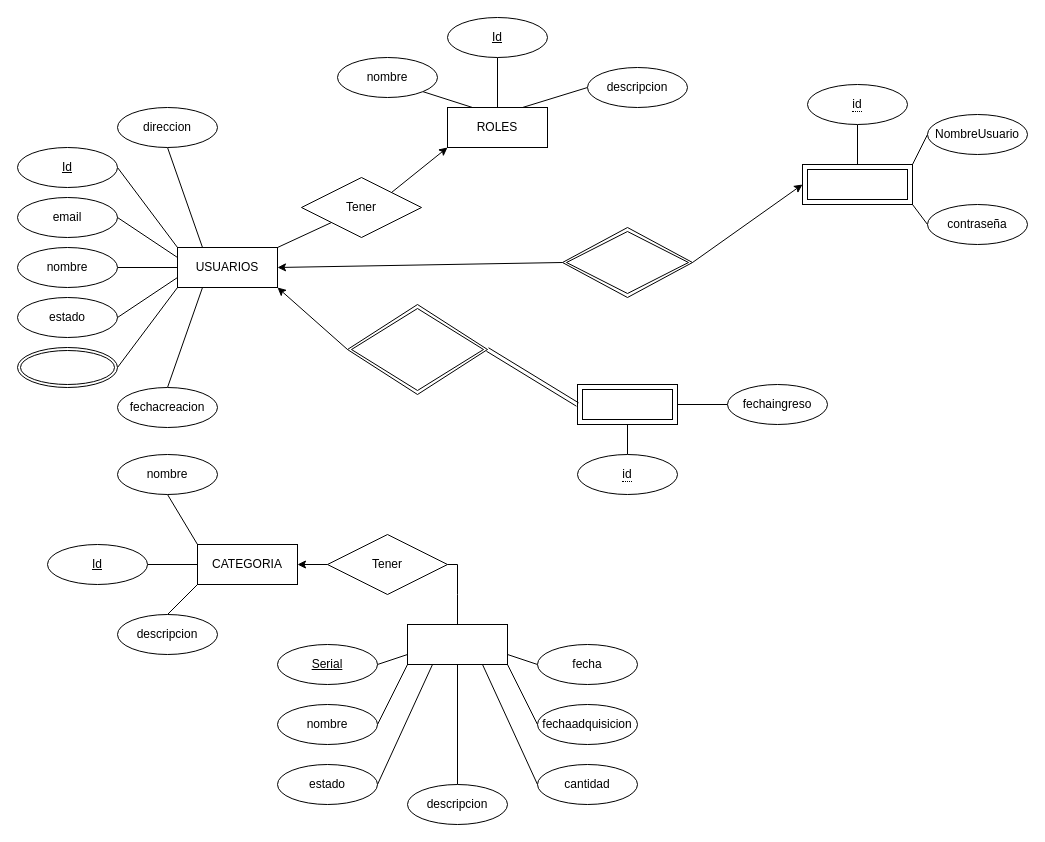
This 1045x842 diagram has some shape labels left out. Each missing label, with the centre of its shape:
"CREDENCIALES" belongs at point 857,184.
"ELEMENTOS" belongs at point 457,644.
"numero" belongs at point 67,367.
"REGISTROING" belongs at point 627,404.
"Usuarios-Credenciales" belongs at point 627,262.
"Usuarios-Registroing" belongs at point 417,349.
